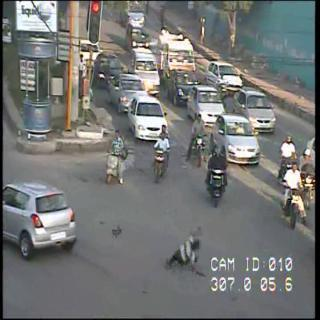multiple_accident: (13, 179, 225, 291)
